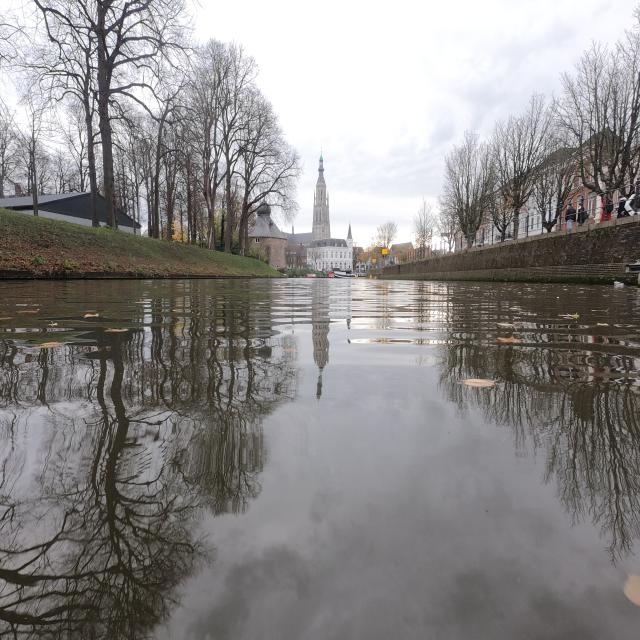dock: (0, 269, 279, 280)
grass: (0, 209, 284, 278)
sky: (194, 0, 638, 246), (193, 0, 638, 245)
wall: (380, 215, 640, 282)
water: (0, 279, 640, 640), (316, 372, 322, 400)
